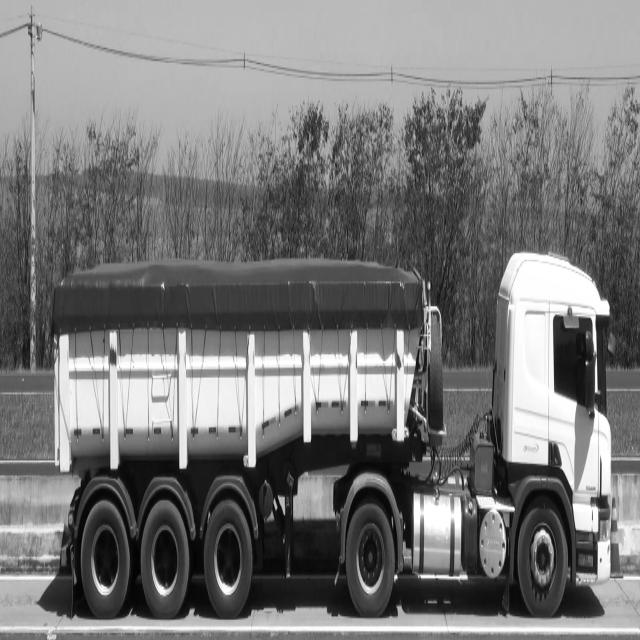Pole: (29, 3, 41, 373)
Truck: (53, 252, 612, 618)
